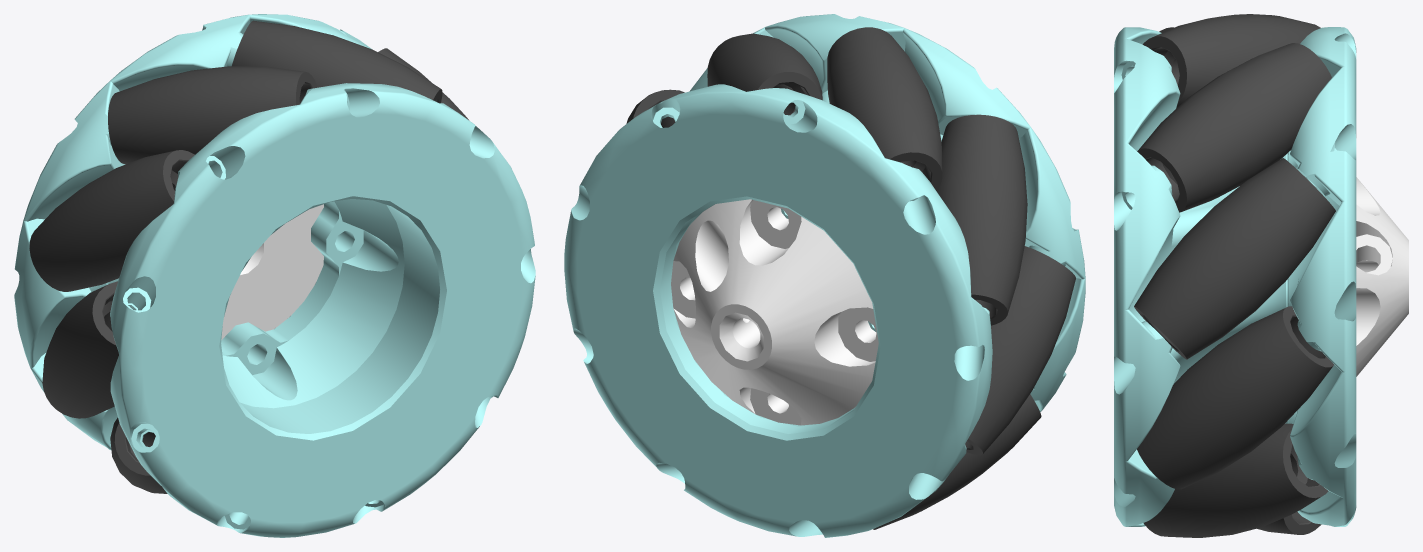
The model's file is asm_3_mecanum_wheel_mir.obj.
3 renders of one model, left to right at view 1: azimuth 30°, elevation 25°; view 2: azimuth 150°, elevation 25°; view 3: azimuth 270°, elevation 25°, orthographic. The views are drawn at different scales.
Size of the model in its own units: 99.55 by 99.37 by 56.
